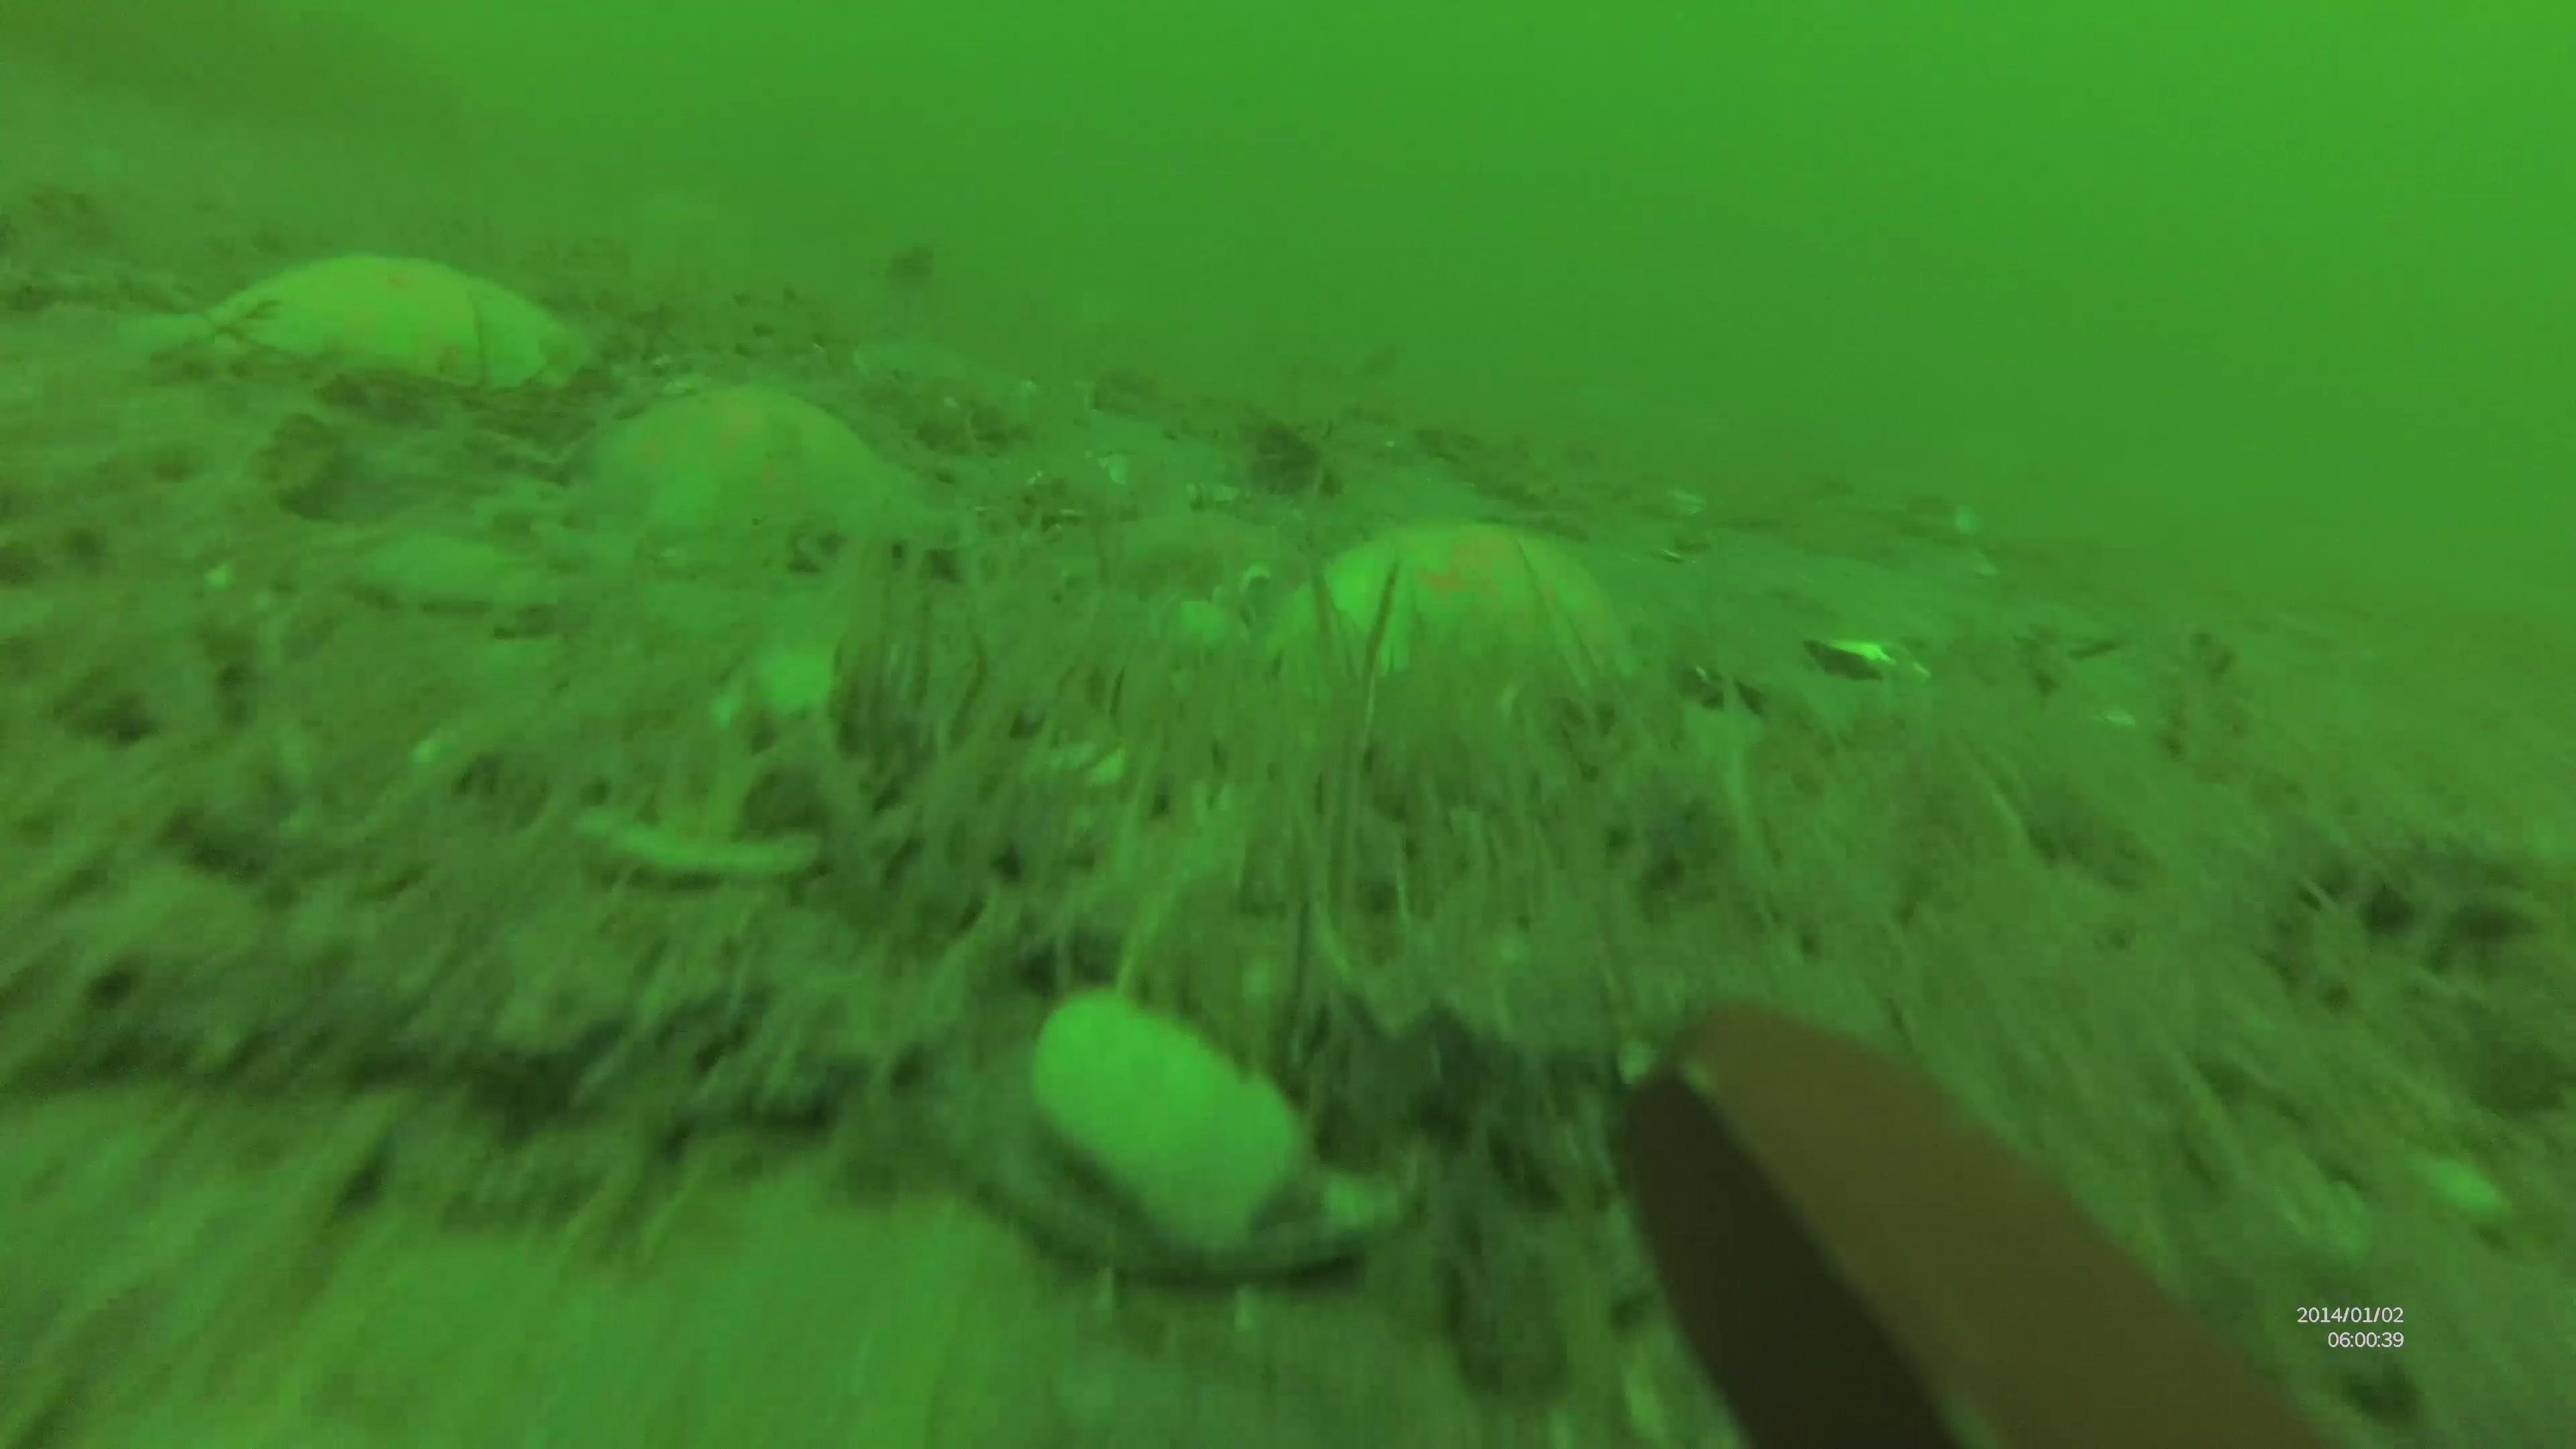starfish: (1284, 518, 1640, 720), (145, 251, 584, 407), (571, 380, 938, 566)
